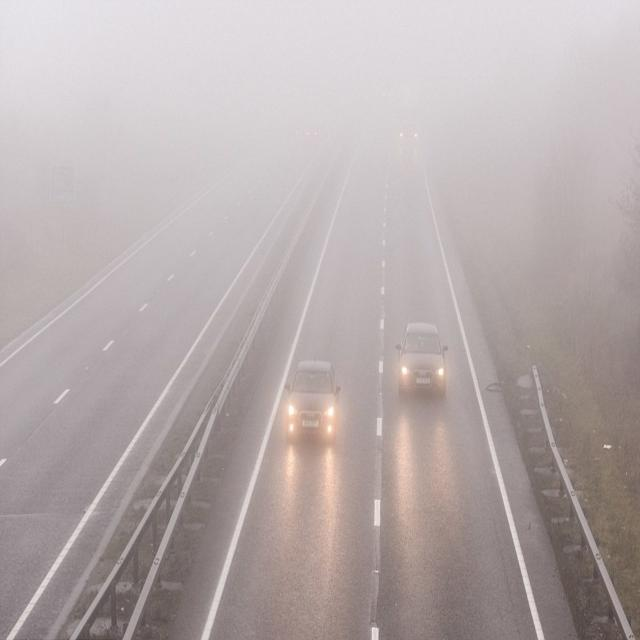car: (285, 362, 337, 442), (396, 324, 446, 397), (398, 118, 419, 146)
